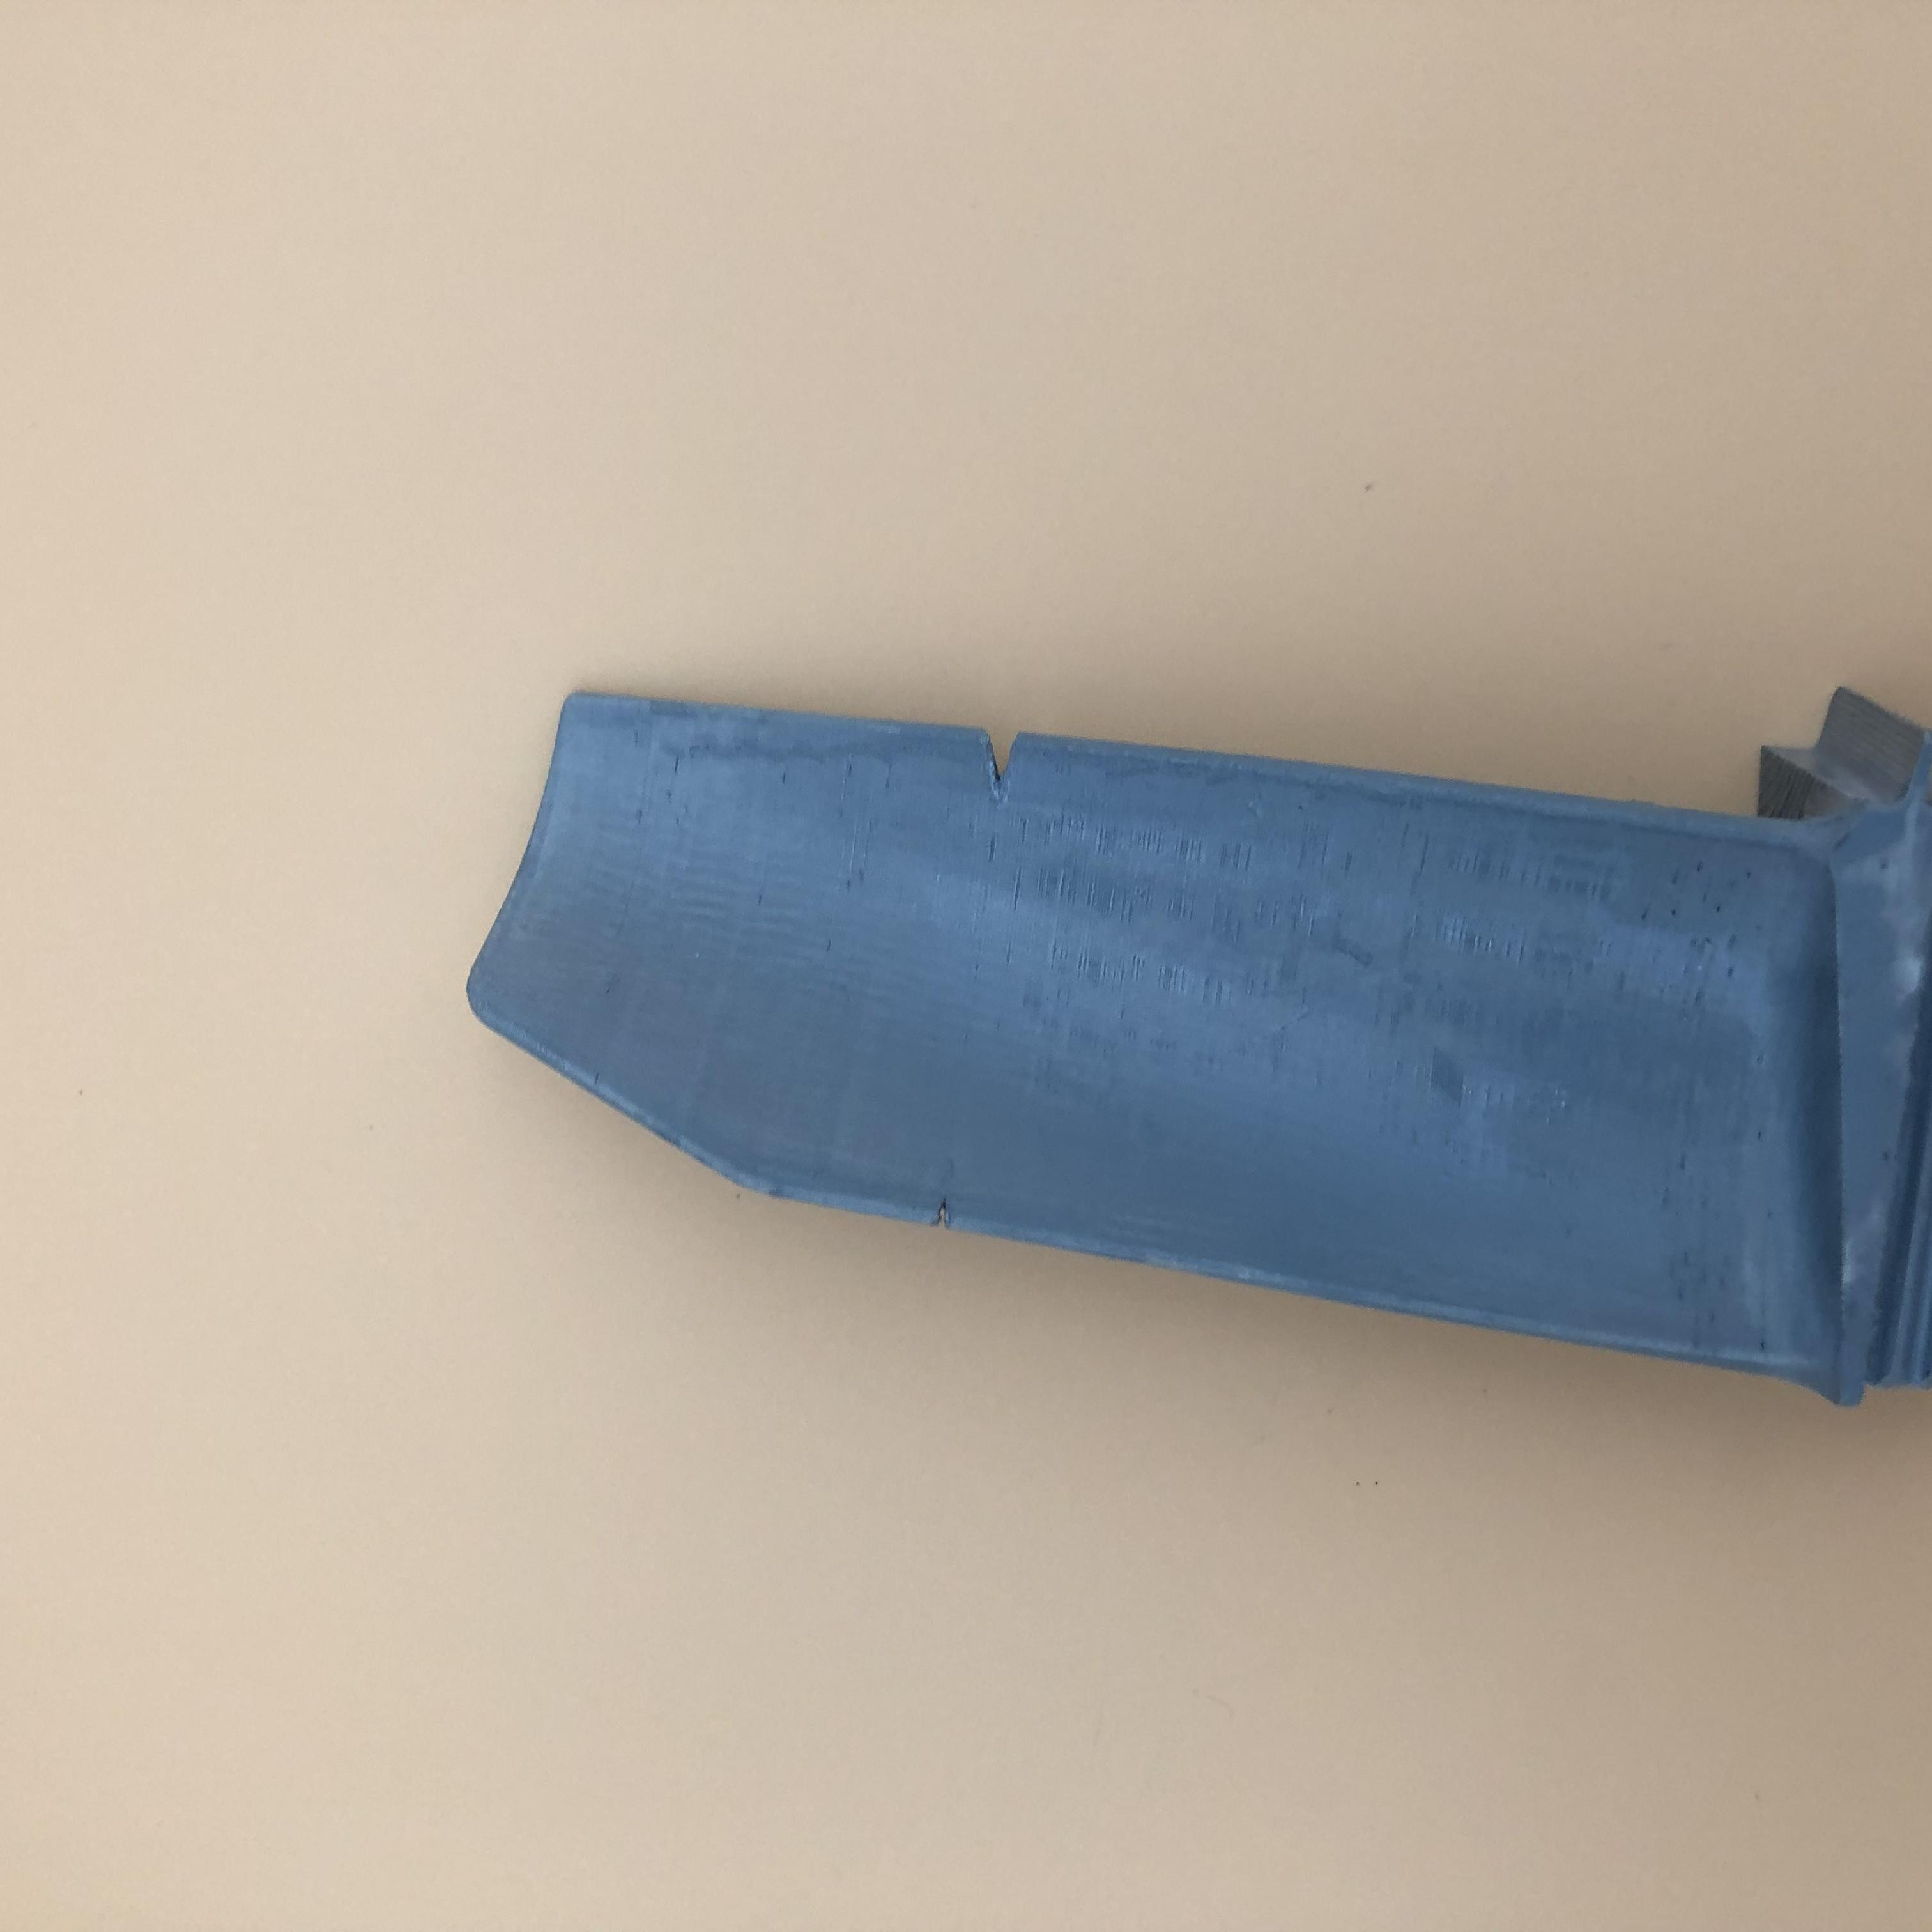groove: (968, 729, 1030, 794), (922, 1189, 962, 1230)
